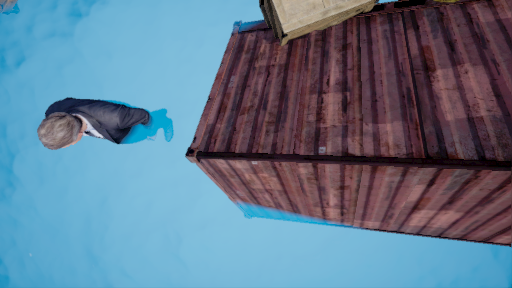person: (32, 92, 182, 157)
